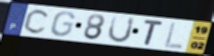8: (82, 13, 107, 41)
C: (22, 8, 51, 35)
G: (49, 11, 76, 38)
L: (162, 21, 185, 50)
T: (143, 19, 165, 47)
U: (107, 15, 137, 44)
